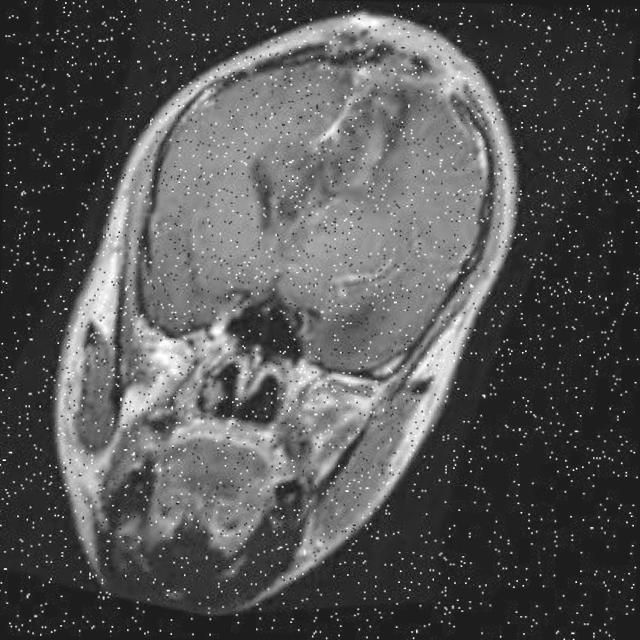CN: (219, 74, 423, 262)
